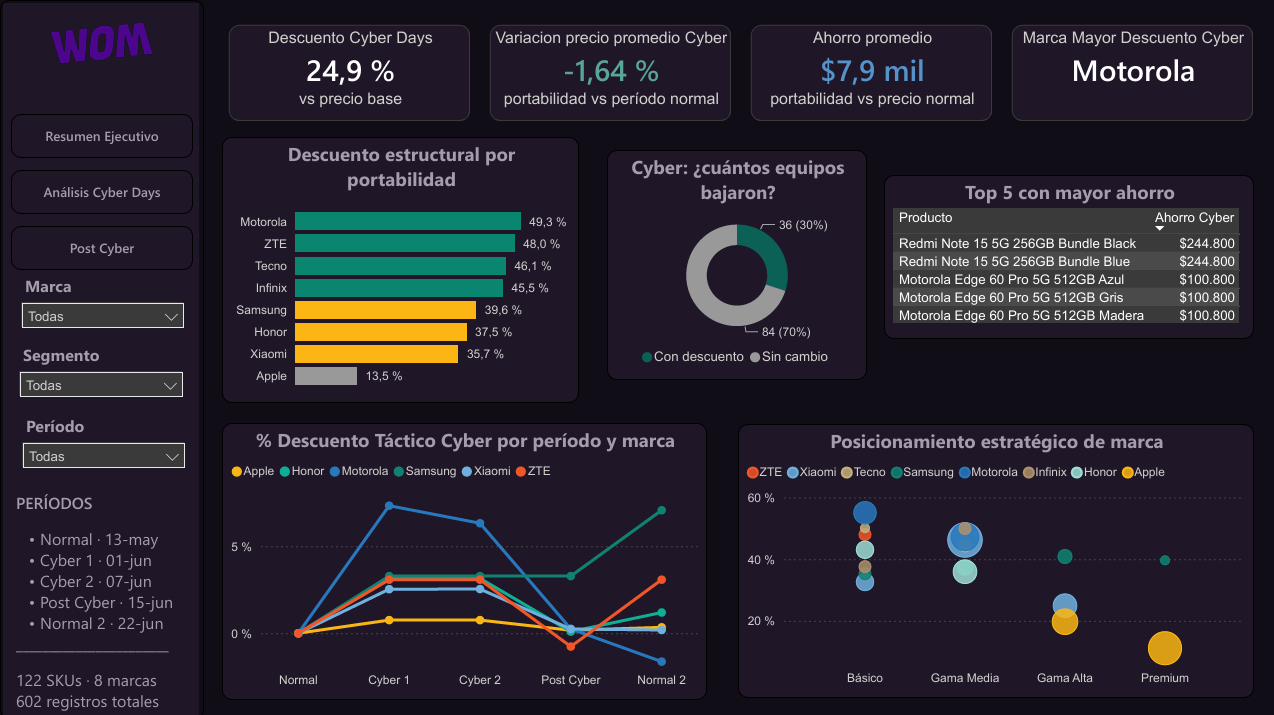

Layout of this report page (visuals, bound fields, positions):
{"tool":"powerbi","page":{"name":"Análisis Cyber Days","canvas":[1280,720],"ordinal":1},"visuals":[{"type":"cardVisual","fields":{"Data":["WOM.% Descuento Cyber Days","WOM.Variacion precio promedio cyber","WOM.Descuento Cyber","WOM.Marca Mayor Descuento Cyber"]},"box":[204.1,0,1075.7,145.9],"z":0},{"type":"shape","box":[0,0,204.3,719.7],"z":1000},{"type":"image","box":[10.3,12.9,182.5,60.4],"z":2000},{"type":"donutChart","title":"Cyber: ¿cuántos equipos bajaron?","fields":{"Y":["WOM.Donut Con Descuento","WOM.Donut Sin Cambio"]},"box":[606.6,150.4,260.9,230],"z":3000},{"type":"slicer","fields":{"Values":["WOM.marca"]},"box":[11.6,269.6,182.6,58],"z":4000},{"type":"slicer","fields":{"Values":["WOM.segmento"]},"box":[10.1,339.1,182.6,82.6],"z":5000},{"type":"barChart","title":"Descuento estructural por portabilidad","fields":{"Y":["WOM.% Descuento Cyber Days"],"Category":["WOM.marca"]},"box":[222.2,136.7,356.6,266.6],"z":6000},{"type":"textbox","box":[11.4,471.6,183.4,248.4],"z":7000},{"type":"slicer","fields":{"Values":["WOM.periodo"]},"box":[12.5,410.1,182.3,83.2],"z":8000},{"type":"scatterChart","title":"Posicionamiento estratégico de marca","fields":{"Series":["WOM.marca"],"X":["WOM.segmento"],"Y":["WOM.% Descuento Cyber Days"],"Size":["Count(WOM.sku)"]},"box":[738.2,423.8,516.1,274.6],"z":9000},{"type":"shape","box":[11.4,113.9,181.1,44.4],"z":10000},{"type":"shape","box":[11.4,169.7,181.1,44.4],"z":11000},{"type":"shape","box":[11.4,225.6,181.1,44.4],"z":12000},{"type":"lineChart","title":"% Descuento Táctico Cyber por período y marca","fields":{"Y":["WOM.% Descuento Táctico Cyber"],"Category":["WOM.periodo"],"Series":["WOM.marca"]},"box":[222.3,422.8,484.5,277.6],"z":13000},{"type":"tableEx","title":"Top 5 con mayor ahorro","fields":{"Values":["WOM.producto","WOM.Descuento Cyber"]},"box":[884,175,370,164],"z":14000}]}

Visuals, with their boxes on the page's 1280x720 design canvas (x1, y1, x2, y2). These are canvas units, not pixel positions in the 1274x715 screenshot, which may show the page scaled, cropped or inside an application window:
cardVisual - WOM.% Descuento Cyber Days x WOM.Variacion precio promedio cyber: [204, 0, 1280, 146]
shape: [0, 0, 204, 720]
image: [10, 13, 193, 73]
"Cyber: ¿cuántos equipos bajaron?" donutChart: [607, 150, 868, 380]
slicer - WOM.marca: [12, 270, 194, 328]
slicer - WOM.segmento: [10, 339, 193, 422]
"Descuento estructural por portabilidad" barChart: [222, 137, 579, 403]
textbox: [11, 472, 195, 720]
slicer - WOM.periodo: [12, 410, 195, 493]
"Posicionamiento estratégico de marca" scatterChart: [738, 424, 1254, 698]
shape: [11, 114, 192, 158]
shape: [11, 170, 192, 214]
shape: [11, 226, 192, 270]
"% Descuento Táctico Cyber por período y marca" lineChart: [222, 423, 707, 700]
"Top 5 con mayor ahorro" tableEx: [884, 175, 1254, 339]
